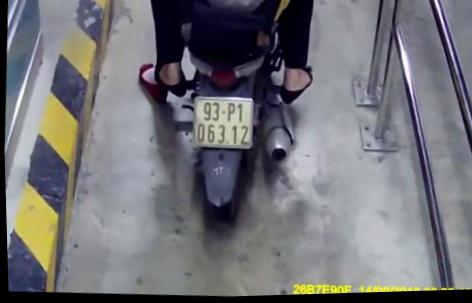LP: (189, 94, 255, 153)
